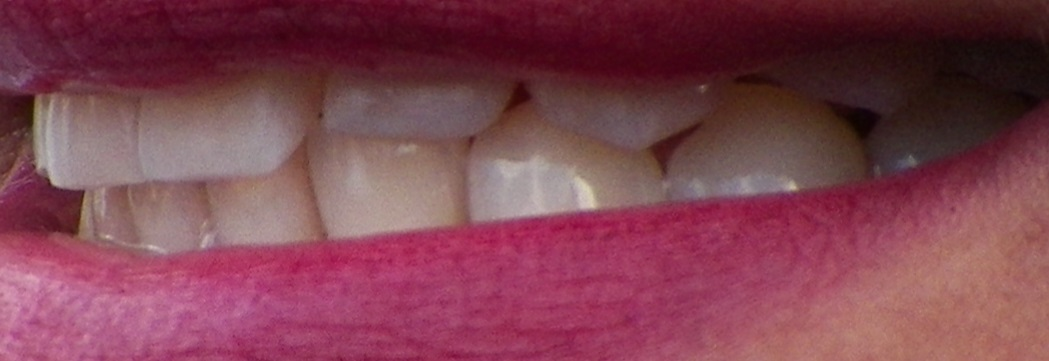boca: (10, 41, 1020, 251)
